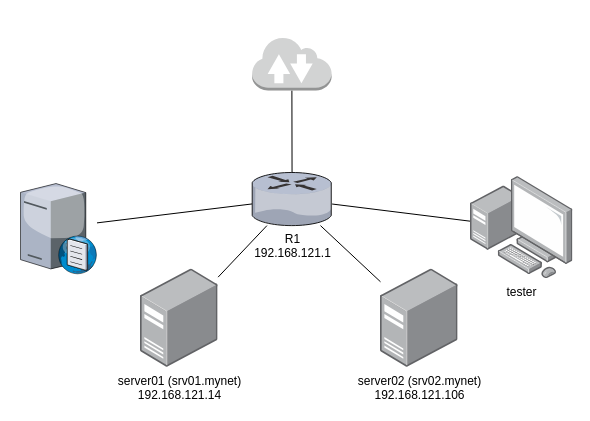
The diagram is 590 pixels wide and 421 high, and some of its shapes have lost their labels. The centre of each missing label's shape, as x and y in pixels:
dnsserver 192.168.121.67: (58,227)
Internet: (291,63)
